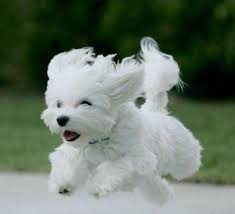dog: (33, 52, 118, 145)
